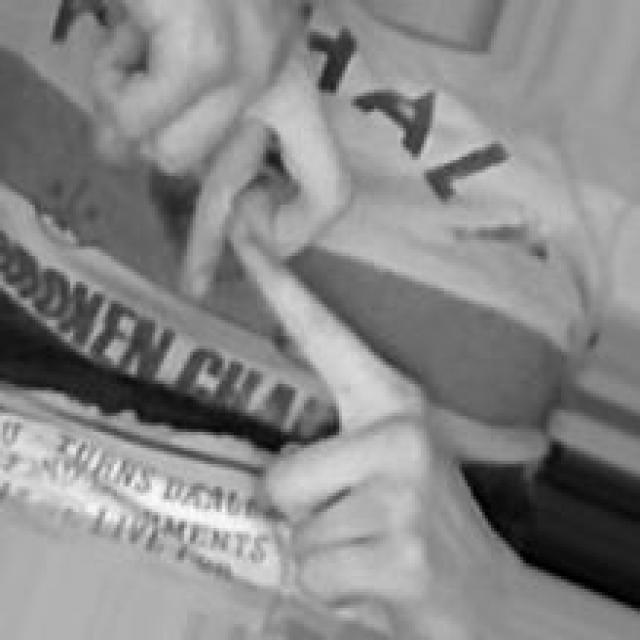R: (91, 0, 524, 640)
